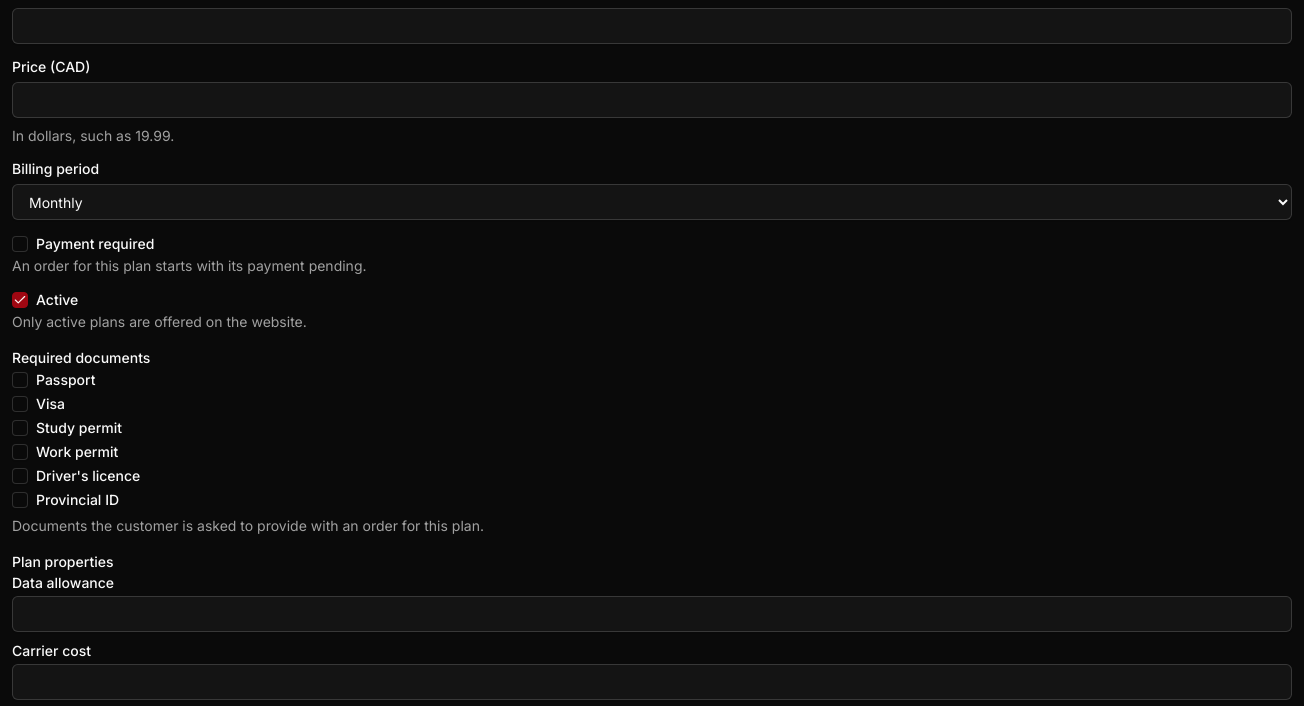
Test: PlanEditor when adding › shows the reason a save was refused
The image size is (1304, 706).
Type "Fibre" into the field labelled "Name" at (652, 26), box 12,8 -> 1292,44
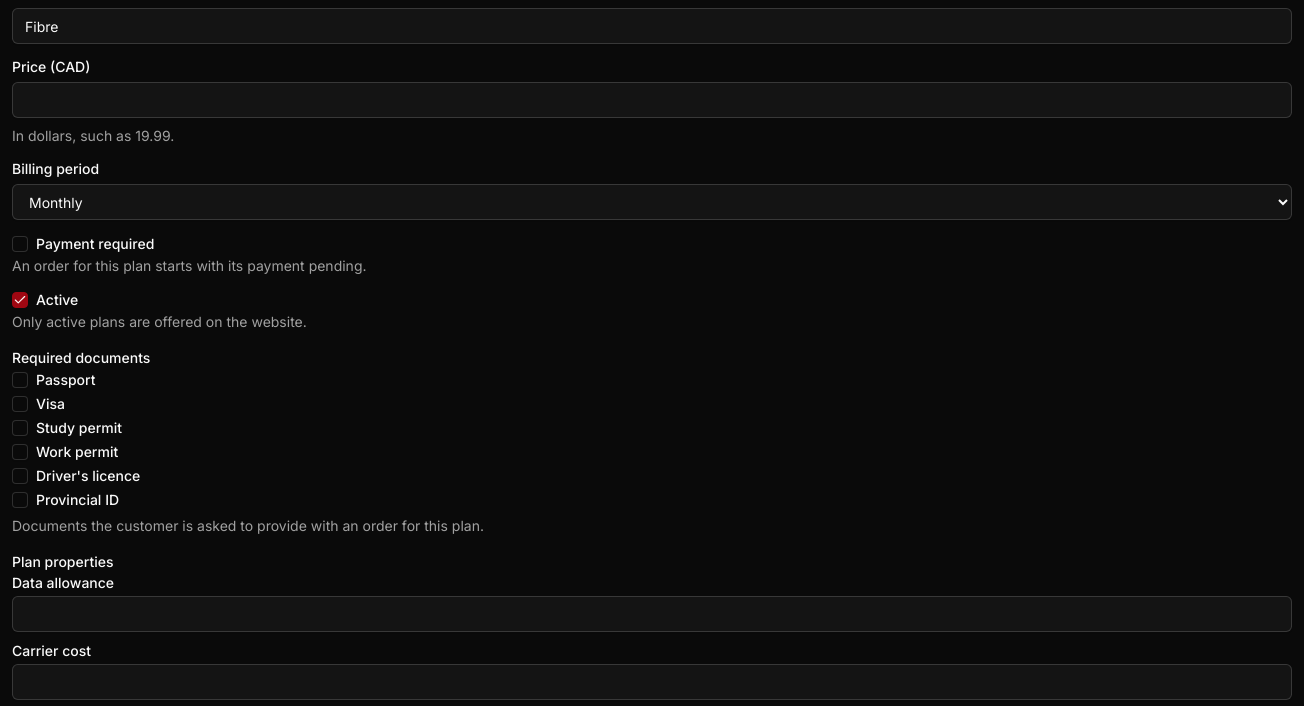
Type "10" into the field labelled "Price (CAD)" at (652, 100), box 12,82 -> 1292,118
(page scrolled)
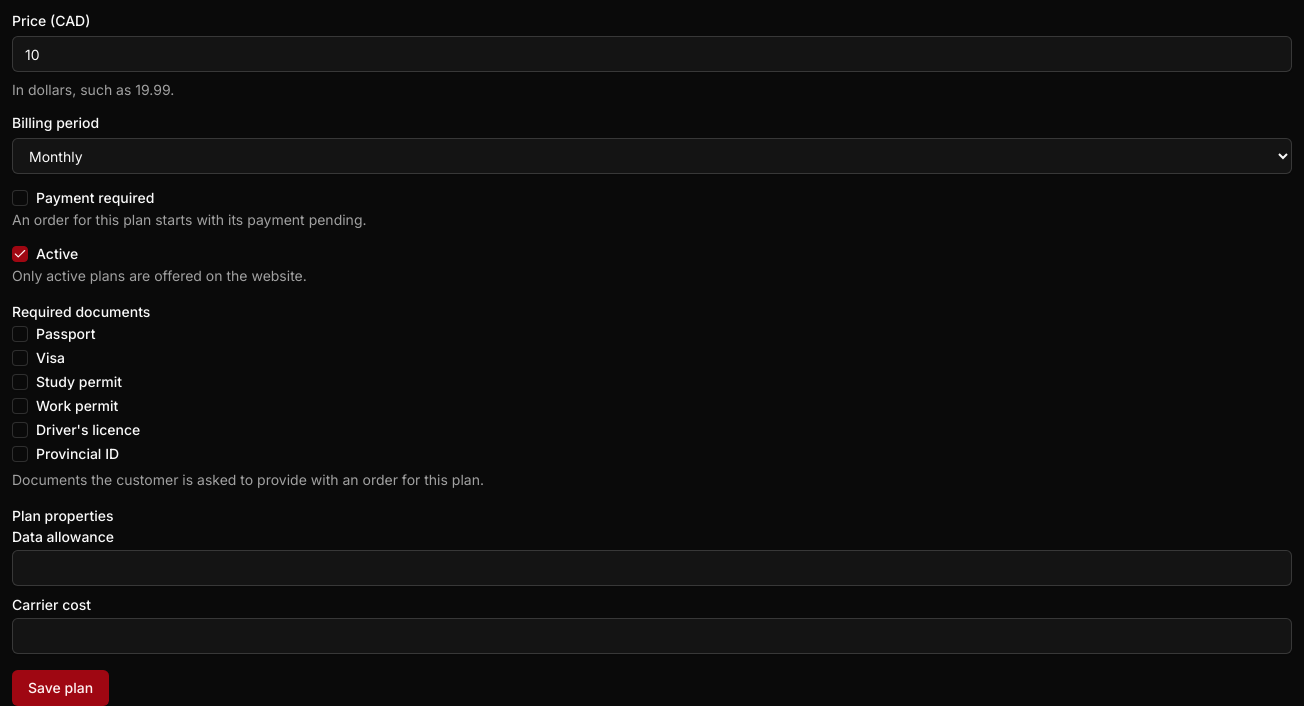
Click the button "Save plan" at (61, 688), box 12,670 -> 109,705
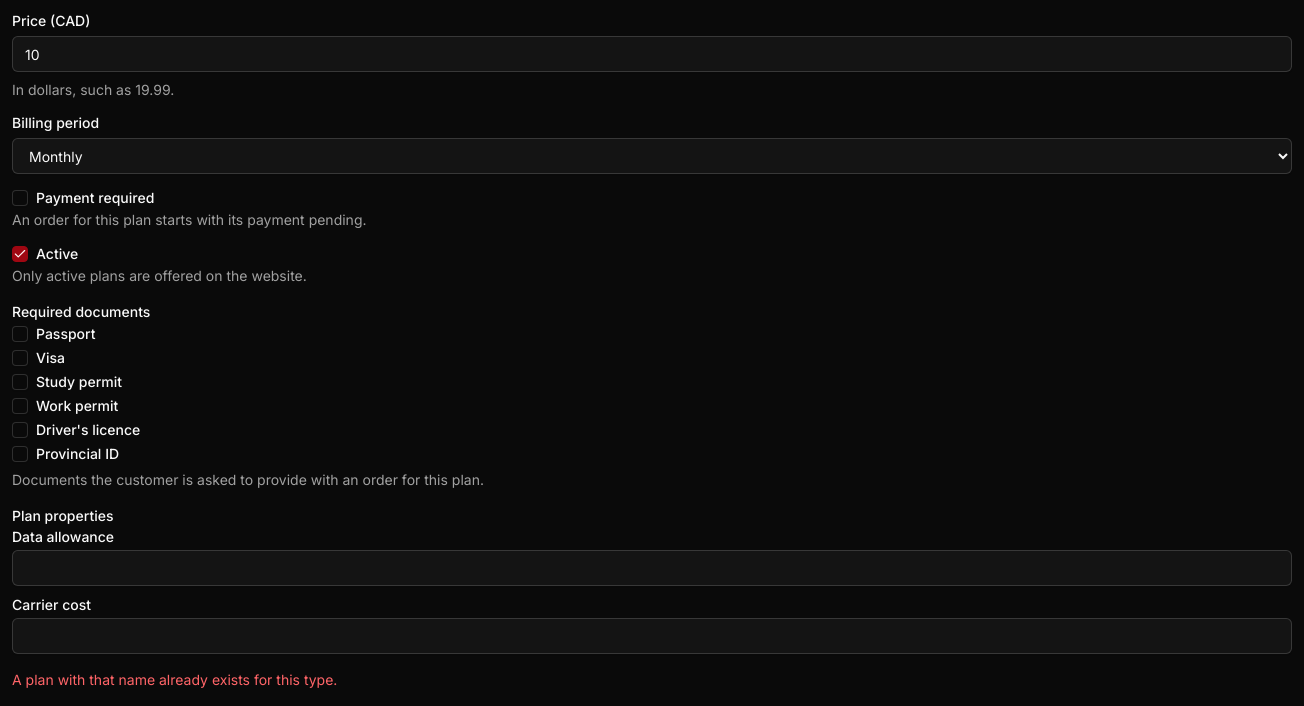
Expected: the message reads "A plan with that name already exists for this type.", 12,671 -> 337,688
